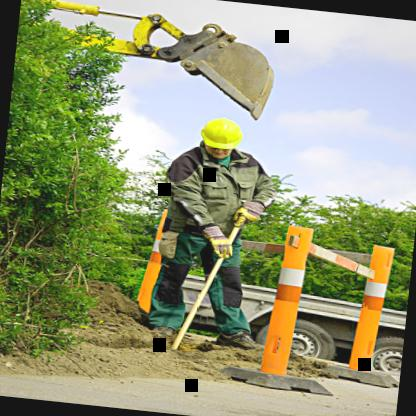helmet: (193, 110, 250, 167)
